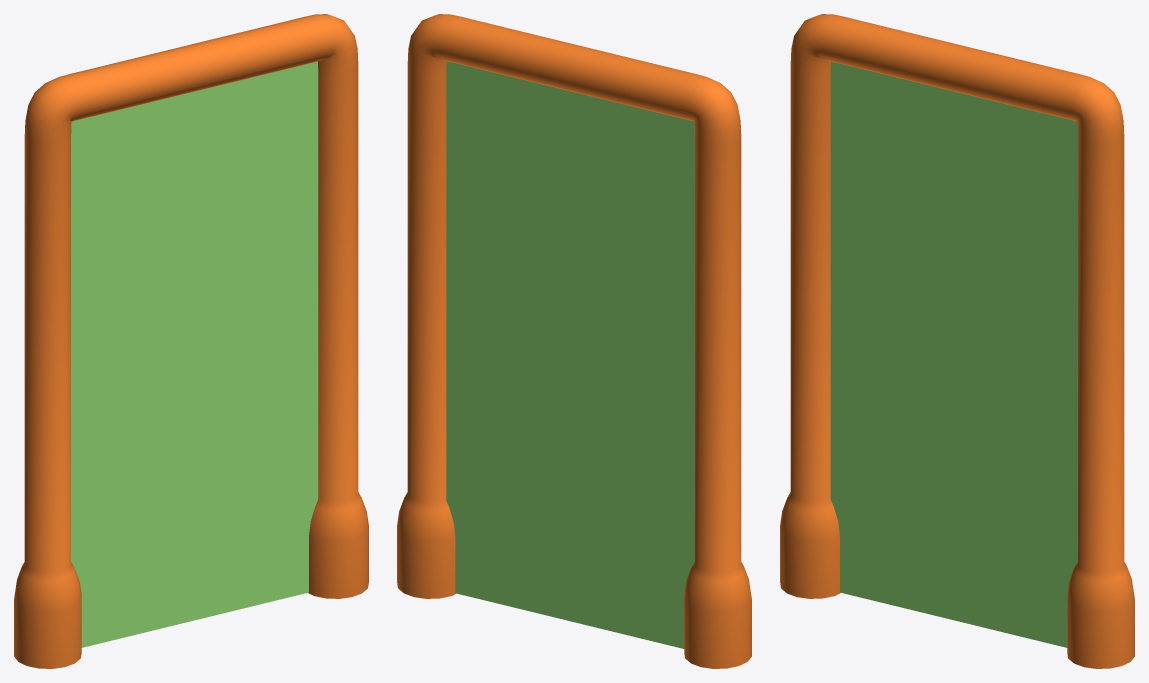
File: Doors_Orange_1.fbx
3 renders of one model, left to right at view 1: azimuth 30°, elevation 25°; view 2: azimuth 150°, elevation 25°; view 3: azimuth 330°, elevation 25°, orthographic.
Parts seen in each view (by area): view 1: Plane 1, Doors Framework; view 2: Plane 2, Doors Framework; view 3: Plane 1, Doors Framework.
Boxes of the visible parts, <box> form: Plane 1: <box>71,61,318,647</box>; Doors Framework: <box>14,14,368,668</box>; Plane 2: <box>446,61,694,648</box>; Doors Framework: <box>397,14,751,668</box>; Plane 1: <box>830,61,1077,647</box>; Doors Framework: <box>780,14,1134,668</box>.
Bounding box in the file's own units: 135 × 213 × 23.01.
Materials: 2 (2 with a texture image).
